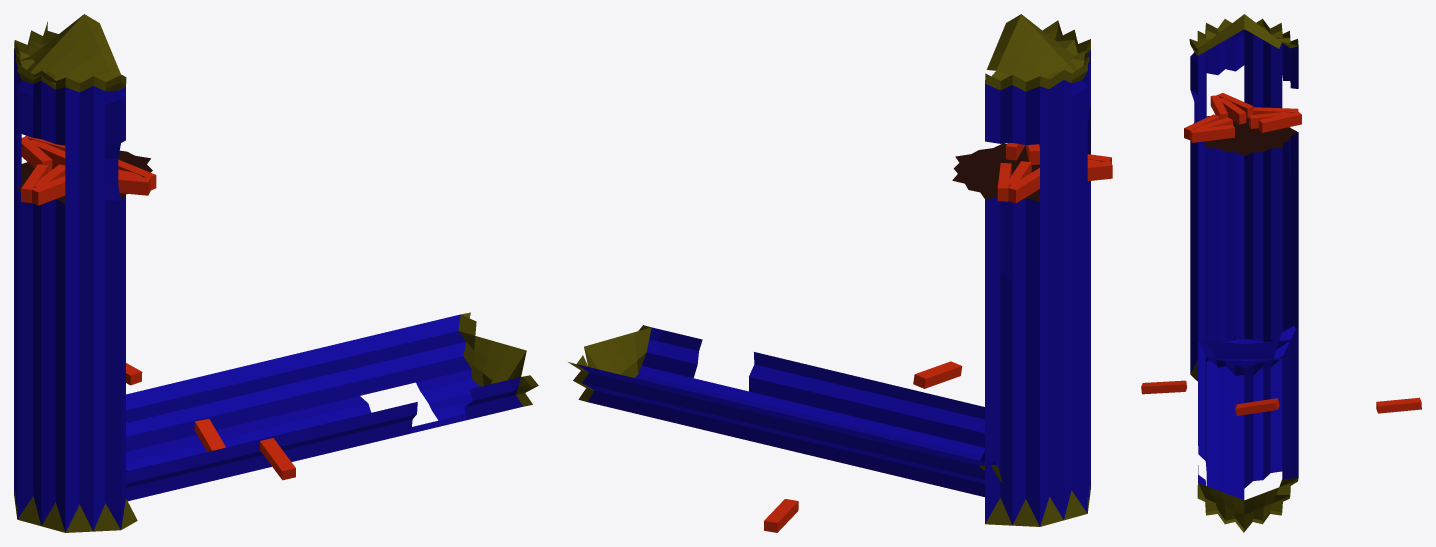
Rendered from ballistictower3d.obj.
3 renders of one model, left to right at view 1: azimuth 30°, elevation 25°; view 2: azimuth 150°, elevation 25°; view 3: azimuth 270°, elevation 25°, orthographic. The views are drawn at different scales.
Parts seen in each view (by area): view 1: Cube, Cube.013, Cube.001, Cube.011, Cube.003, Cube.007; view 2: Cube, Cube.013, Cube.001, Cube.002, Cube.005; view 3: Cube, Cube.013, Cube.008, Cube.004, Cube.002, Cube.001, Cube.003, Cube.012.
Boxes of the visible parts, x1=… form: Cube: x1=14, y1=14, x2=152, y2=532; Cube.013: x1=126, y1=312, x2=538, y2=501; Cube.001: x1=259, y1=438, x2=295, y2=480; Cube.011: x1=32, y1=176, x2=65, y2=205; Cube.003: x1=194, y1=419, x2=225, y2=451; Cube.007: x1=118, y1=175, x2=150, y2=195; Cube: x1=952, y1=14, x2=1090, y2=526; Cube.013: x1=568, y1=325, x2=1002, y2=496; Cube.001: x1=913, y1=361, x2=962, y2=388; Cube.002: x1=764, y1=499, x2=798, y2=532; Cube.005: x1=1008, y1=168, x2=1039, y2=203; Cube: x1=1189, y1=14, x2=1298, y2=381; Cube.013: x1=1197, y1=326, x2=1298, y2=532; Cube.008: x1=1190, y1=124, x2=1234, y2=142; Cube.004: x1=1258, y1=111, x2=1301, y2=132; Cube.002: x1=1376, y1=397, x2=1421, y2=413; Cube.001: x1=1141, y1=380, x2=1186, y2=394; Cube.003: x1=1235, y1=398, x2=1279, y2=415; Cube.012: x1=1220, y1=98, x2=1246, y2=124.
Size of the model in its own units: 12.65 by 11.58 by 8.03.
